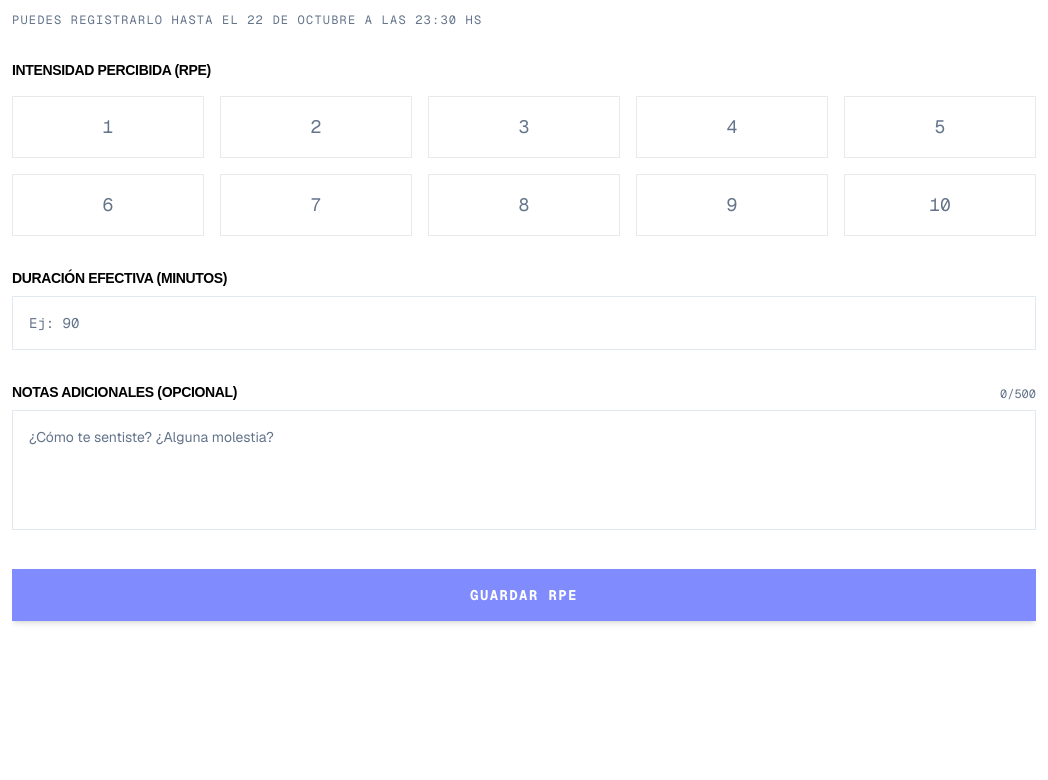
it: RpeForm — modo enlace › 400 INVALID_LINK → mensaje
Step 1. Click the button "7" → coordinates (316, 205), box [220, 174, 412, 236]
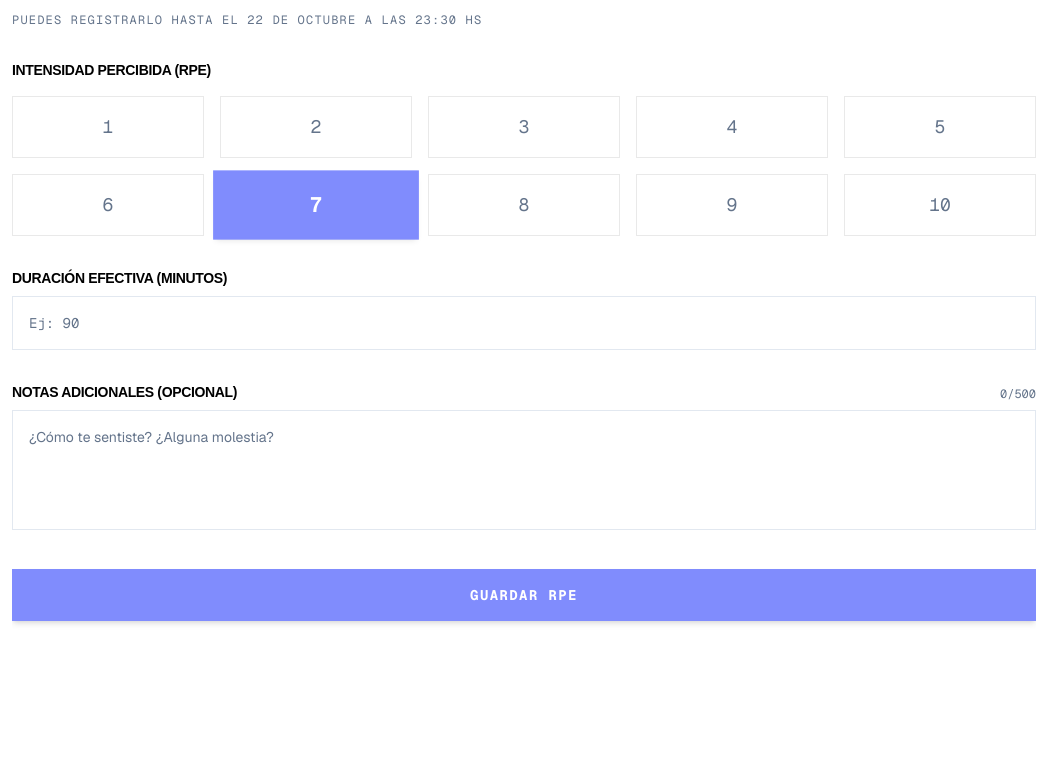
Step 2. Type "60" into the number field labelled "Duración efectiva (minutos)" → coordinates (524, 323), box [12, 296, 1036, 350]
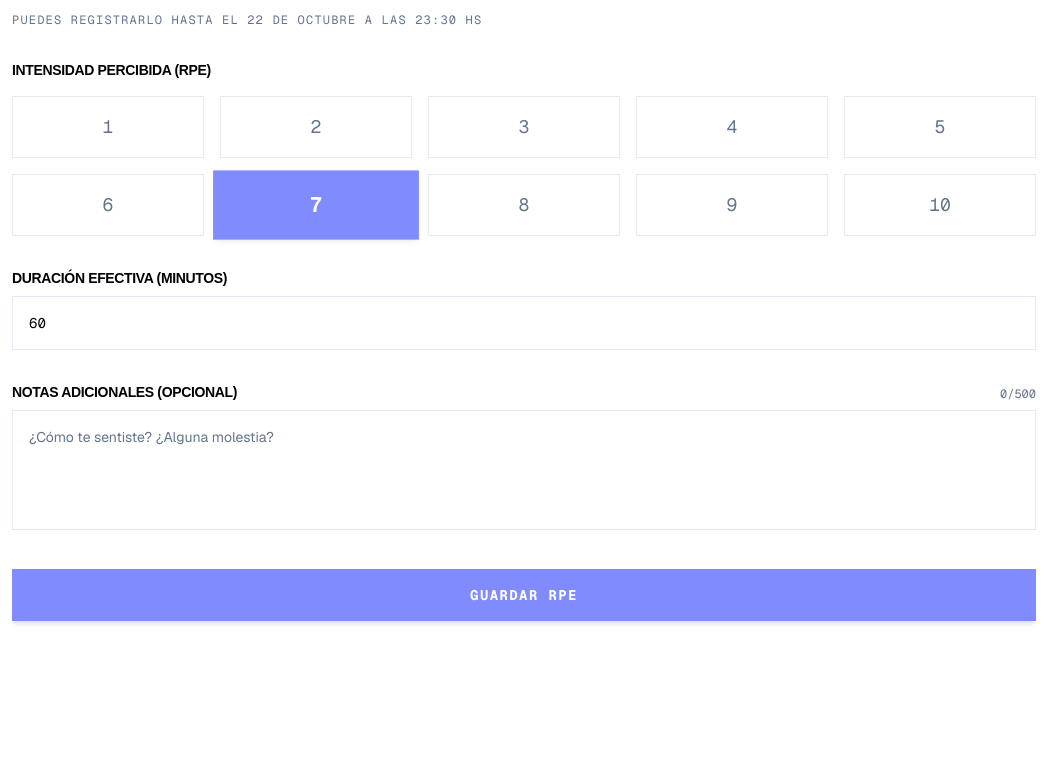
Step 3. Click the button "Guardar RPE" → coordinates (524, 595), box [12, 569, 1036, 621]
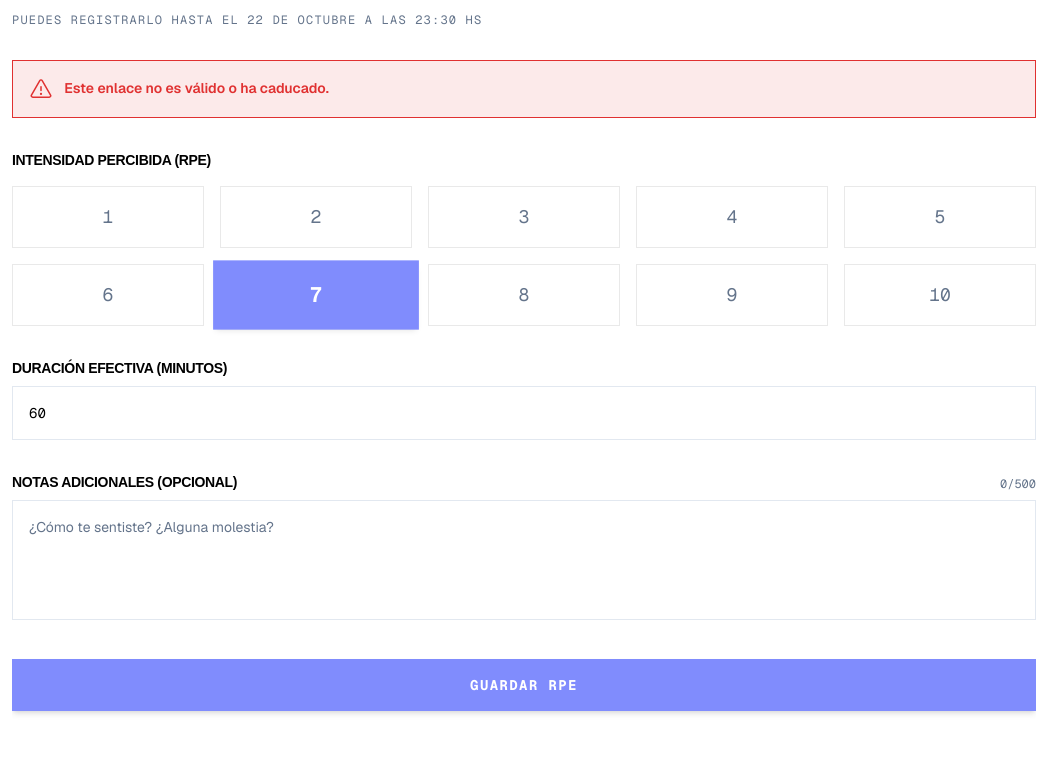
Expected: the button "Guardar RPE" is shown, [12, 659, 1036, 711]
Expected: the text "Este enlace no es válido o ha caducado." is shown, [12, 60, 1036, 118]
